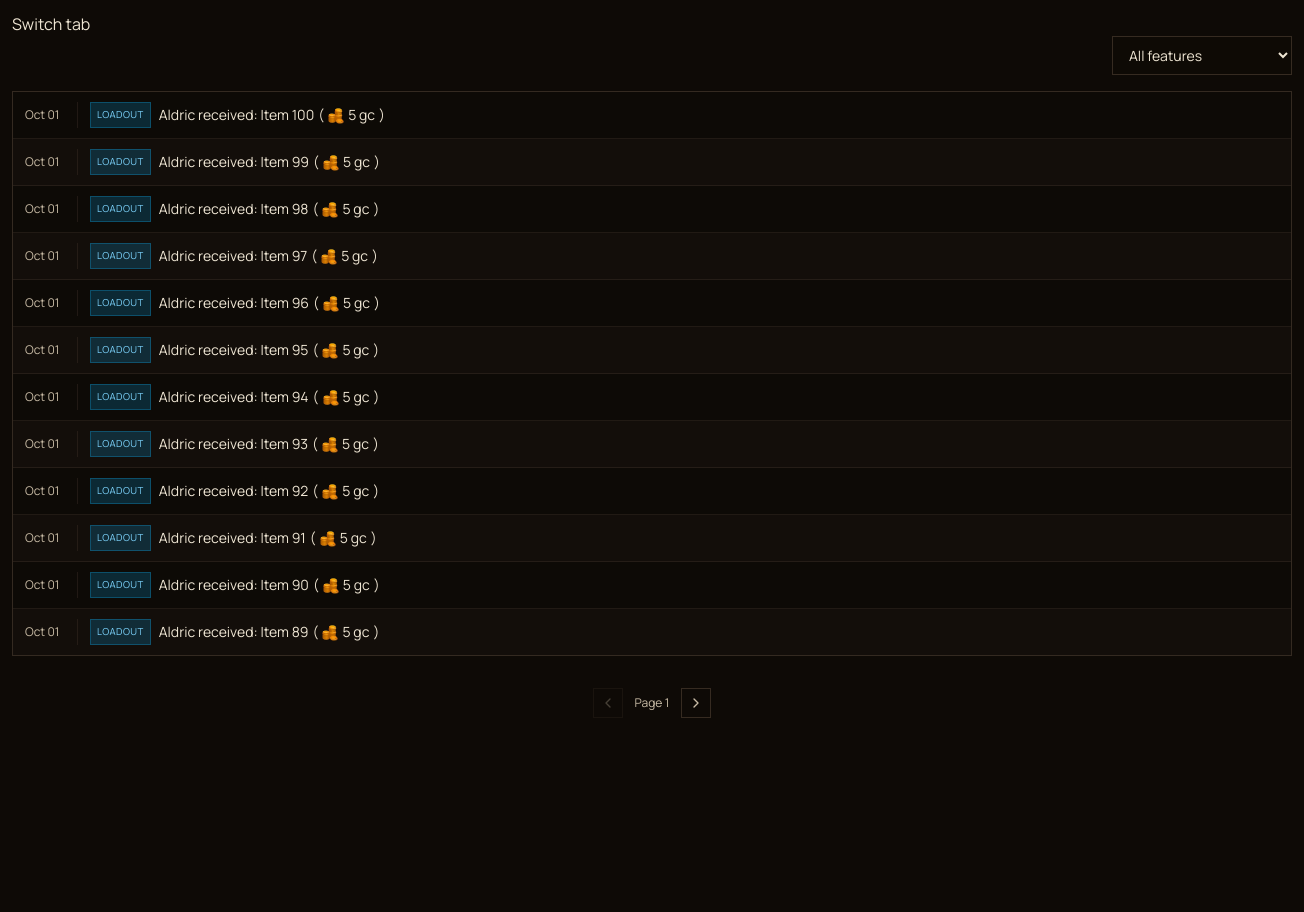
Test case: LogsTab › reads the log 12 entries a page from the server, following the cursor (ECON-PERF-06)
Check: the text "Page 1" is shown, box [635, 695, 669, 711]
Check: the button named "Previous page" is disabled, box [593, 688, 623, 718]
Click the button named "Next page" at (696, 703), box [681, 688, 711, 718]
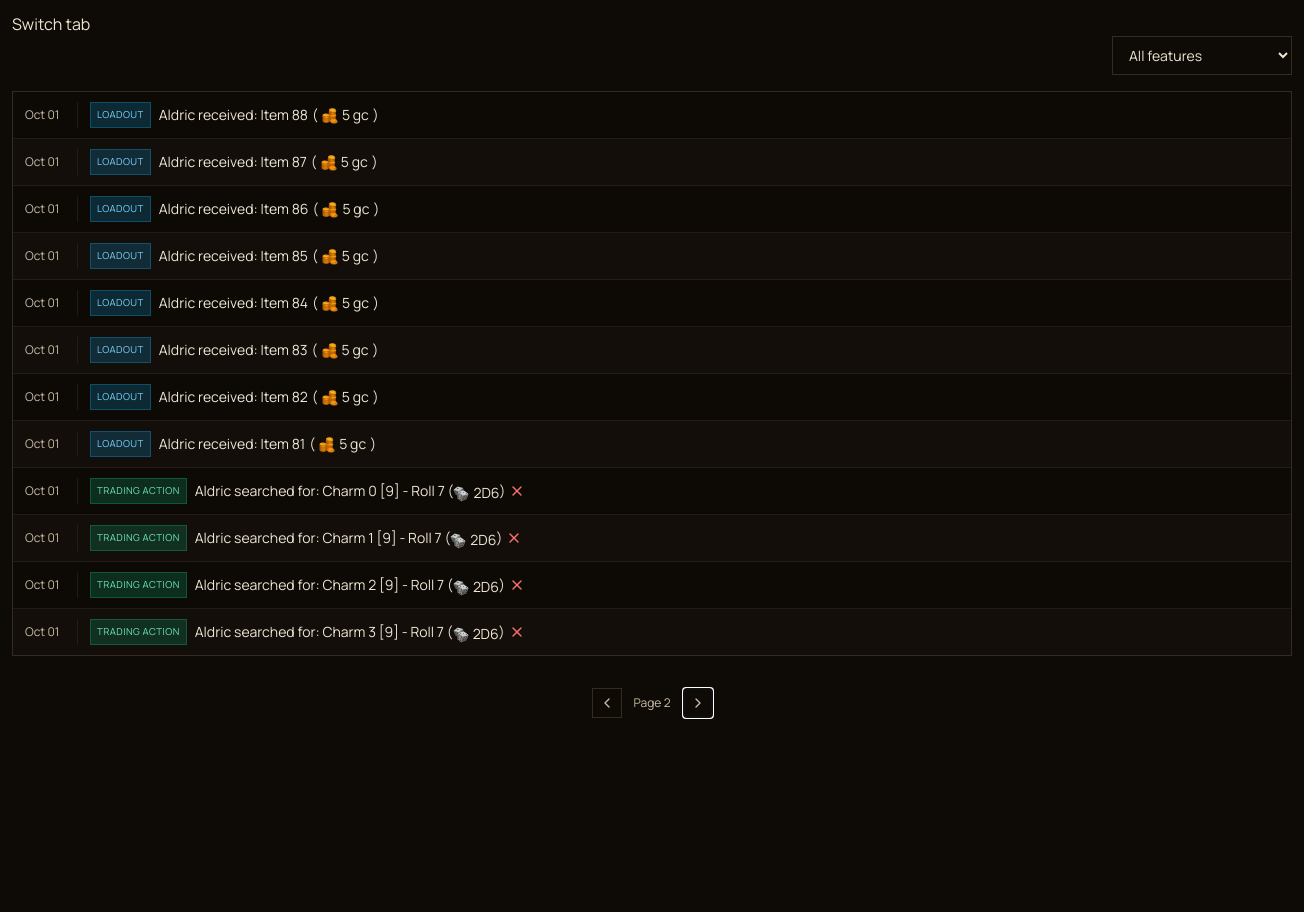
Check: the text "Page 2" is shown, box [634, 695, 670, 711]
Click the button named "Next page" at (698, 703), box [682, 688, 712, 718]
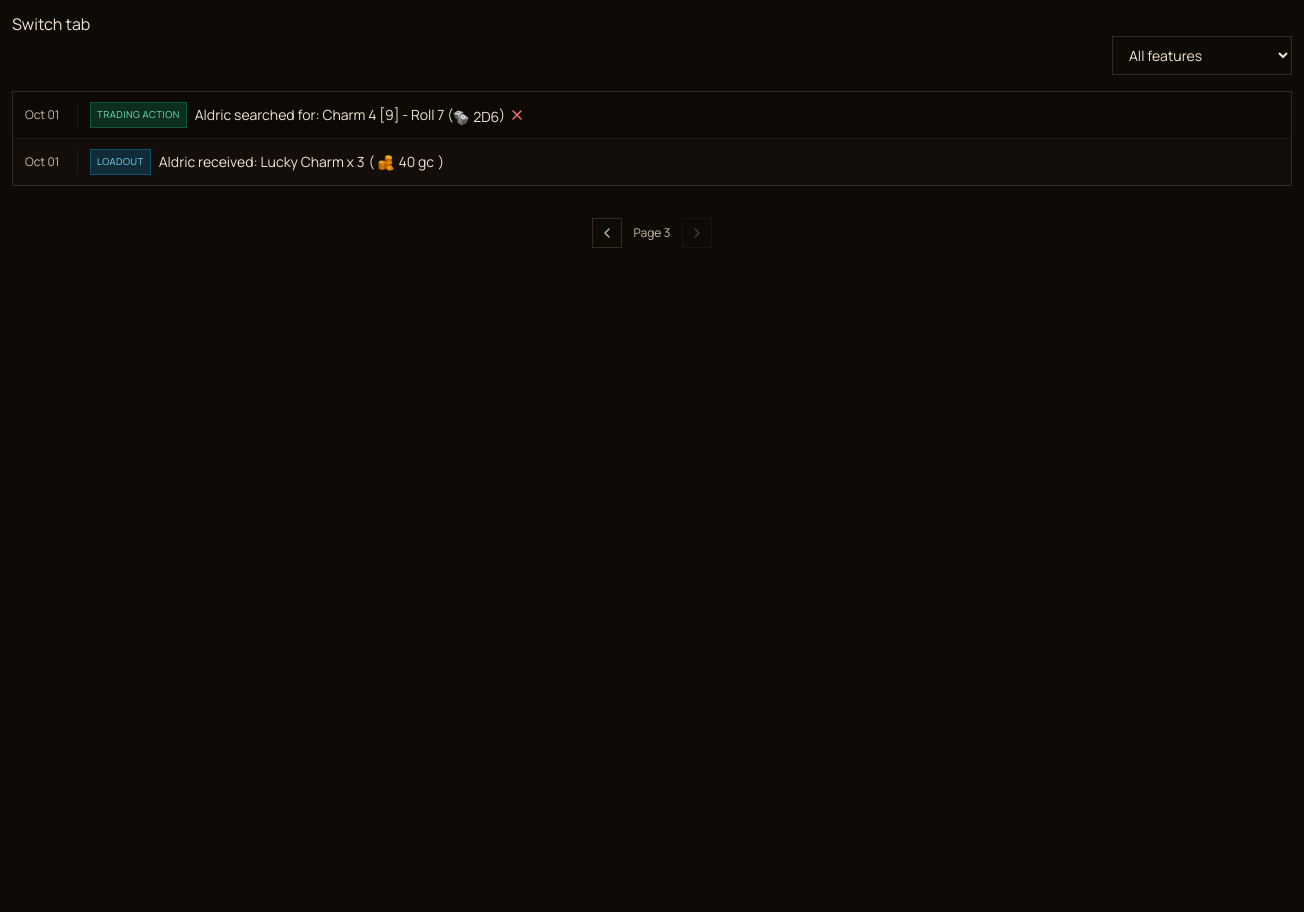
Check: the button named "Next page" is disabled, box [682, 218, 712, 248]
Check: the text "Page 3" is shown, box [634, 225, 670, 241]
# Back to a page already read: no request.
Click the button named "Previous page" at (607, 233), box [592, 218, 622, 248]
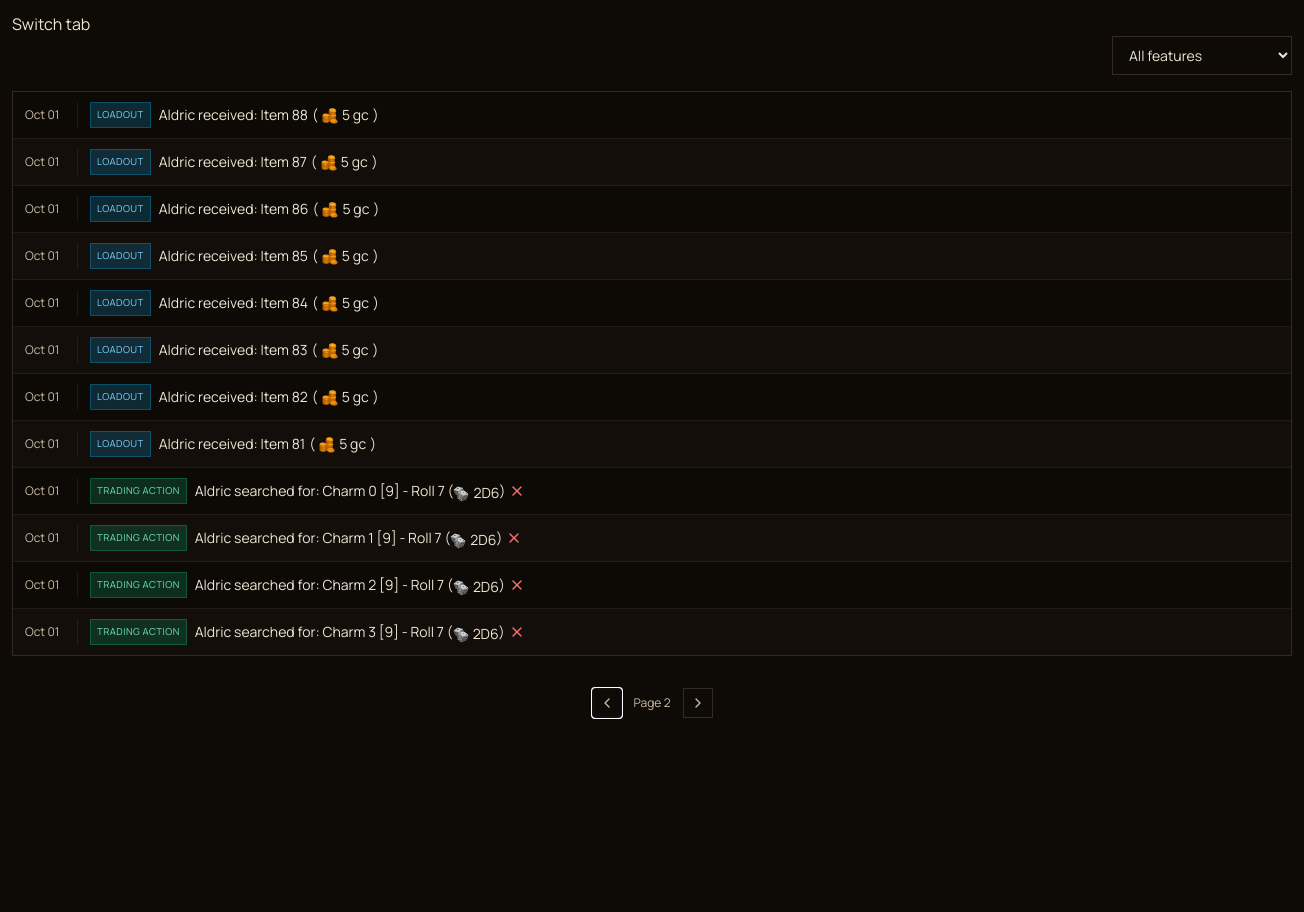
Check: the text "Page 2" is shown, box [634, 695, 670, 711]
